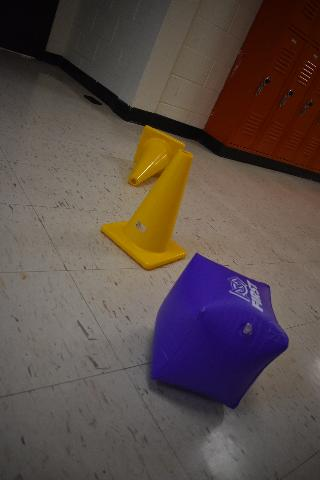cone: (101, 148, 193, 270), (129, 126, 185, 186)
cube: (150, 252, 290, 410)
